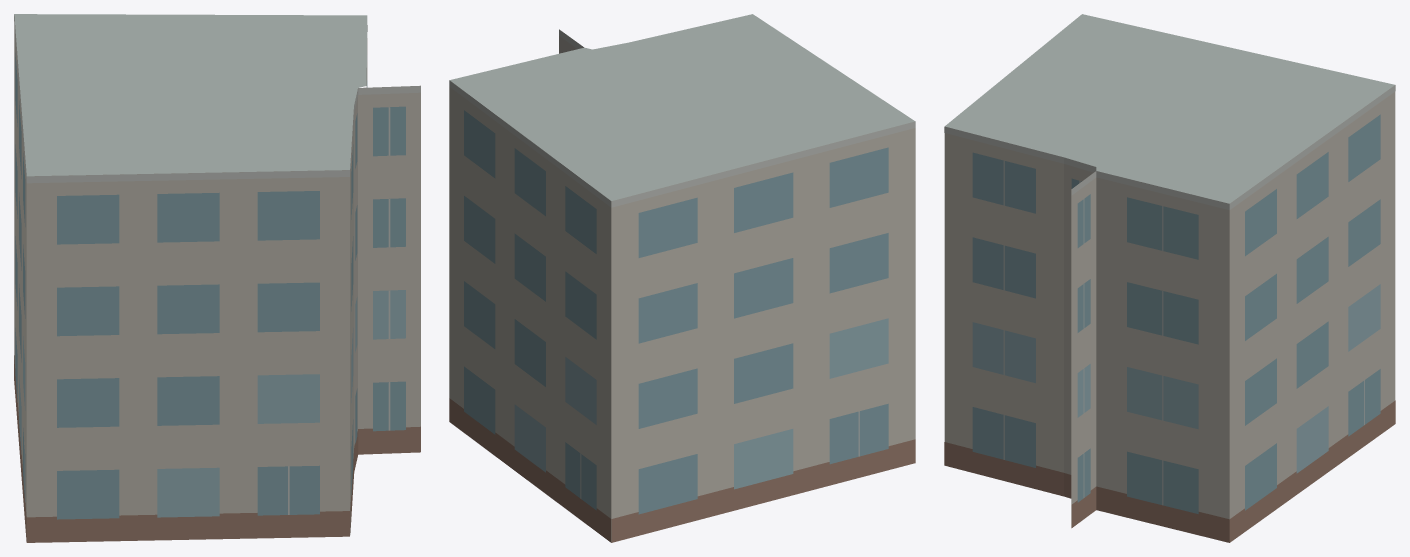
The model's file is survey-upis-33011148.glb.
3 renders of one model, left to right at view 1: azimuth 30°, elevation 25°; view 2: azimuth 150°, elevation 25°; view 3: azimuth 270°, elevation 25°, orthographic. The views are drawn at different scales.
Visible parts, largest first — view 1: survey-upis-33011148.tmp; view 2: survey-upis-33011148.tmp; view 3: survey-upis-33011148.tmp.
Part boxes in pixels (bbox=[...]): survey-upis-33011148.tmp: bbox=[14, 14, 420, 542]; survey-upis-33011148.tmp: bbox=[449, 14, 915, 542]; survey-upis-33011148.tmp: bbox=[944, 14, 1395, 542].
Size of the model in its own units: 15.37 by 12.8 by 15.43.
